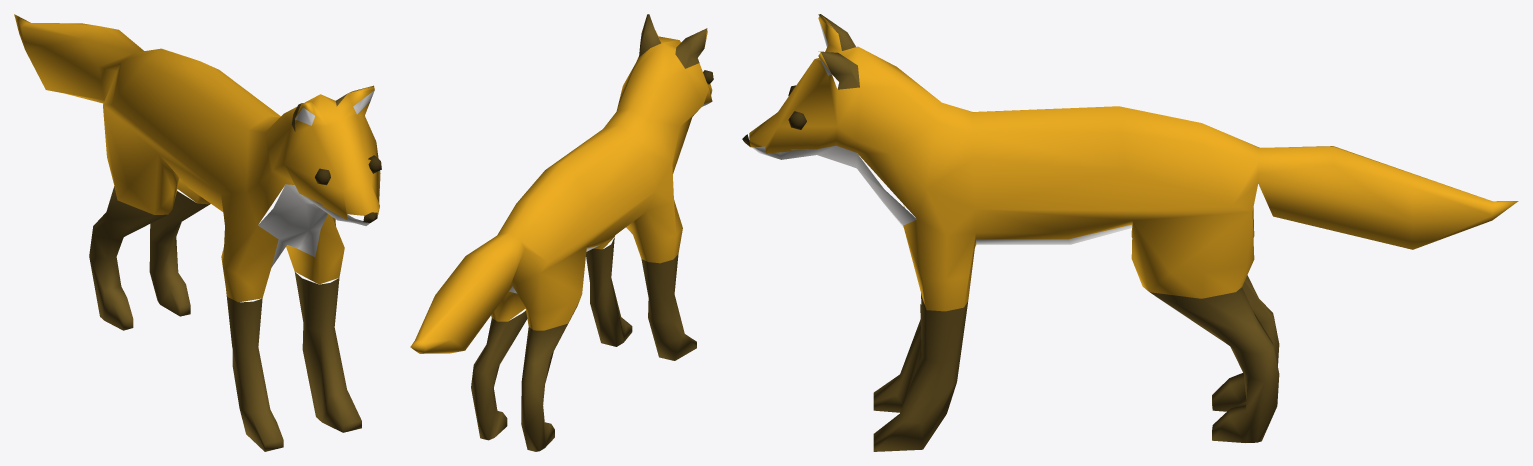
File: animals-fox-099.glb
The picture shows the model from 3 angles, left to right: view 1: azimuth 30°, elevation 25°; view 2: azimuth 150°, elevation 25°; view 3: azimuth 270°, elevation 25°; orthographic projection. The views are drawn at different scales.
Parts seen in each view (by area): view 1: Fox.2; view 2: Fox.2; view 3: Fox.2.
Part boxes in pixels (<box>): Fox.2: <box>14,14,381,451</box>; Fox.2: <box>410,14,713,451</box>; Fox.2: <box>742,14,1518,451</box>.
Size of the model in its own units: 129 by 393 by 704.
